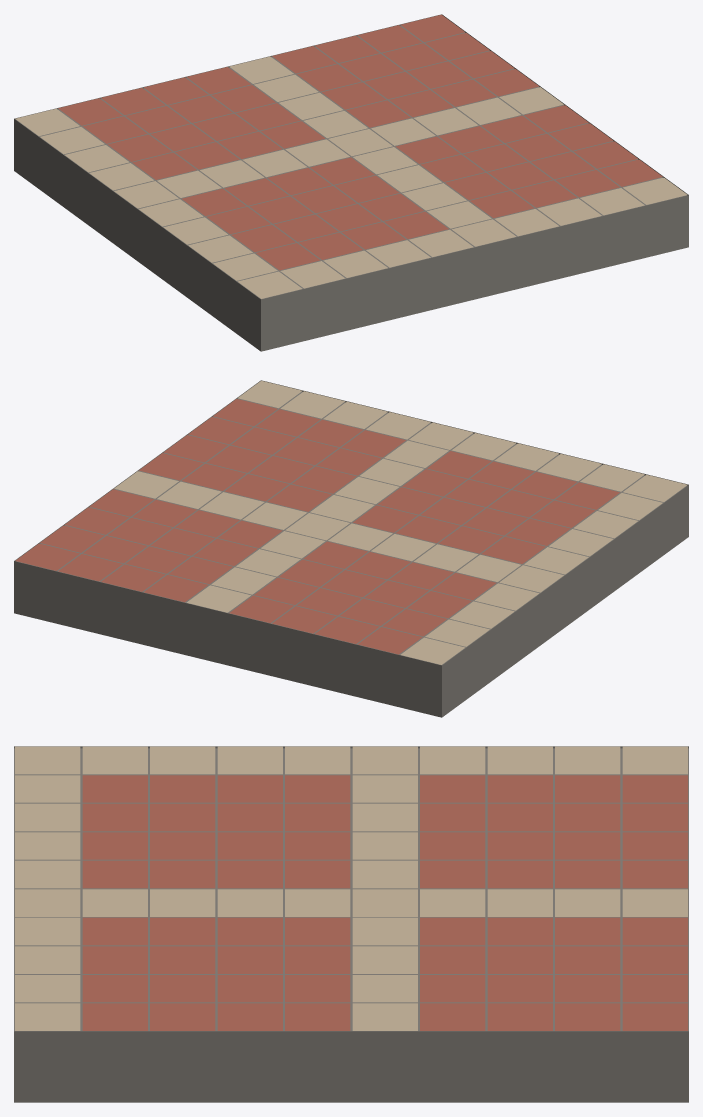
The model's file is SC_Gnd_Sidewalk_Red_3x3.gltf.
3 renders of one model, top to bottom at view 1: azimuth 30°, elevation 25°; view 2: azimuth 150°, elevation 25°; view 3: azimuth 270°, elevation 25°, orthographic. The views are drawn at different scales.
Visible parts, largest first — view 1: SC_Gnd_Sidewalk_Red_3x3; view 2: SC_Gnd_Sidewalk_Red_3x3; view 3: SC_Gnd_Sidewalk_Red_3x3.
Part boxes in pixels (x1=…): SC_Gnd_Sidewalk_Red_3x3: x1=14, y1=14, x2=688, y2=351; SC_Gnd_Sidewalk_Red_3x3: x1=14, y1=380, x2=688, y2=717; SC_Gnd_Sidewalk_Red_3x3: x1=14, y1=746, x2=688, y2=1102.
Size of the model in its own units: 3 by 0.35 by 3.
1 material, 1 textured.
